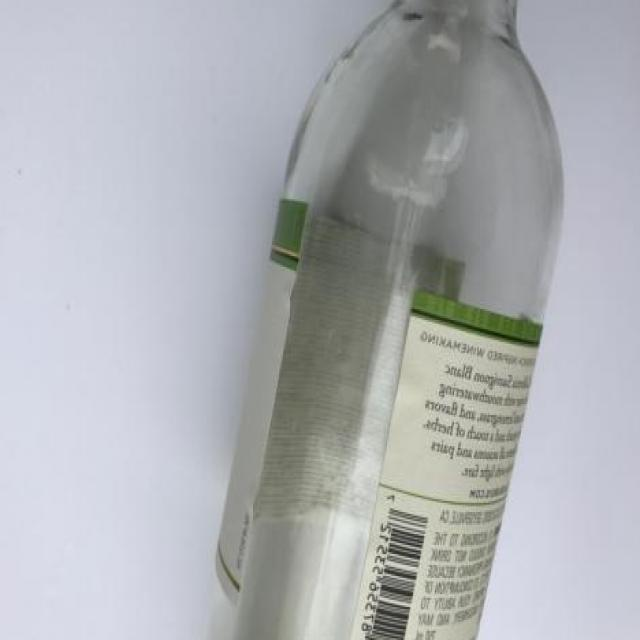glass: (210, 0, 563, 640)
